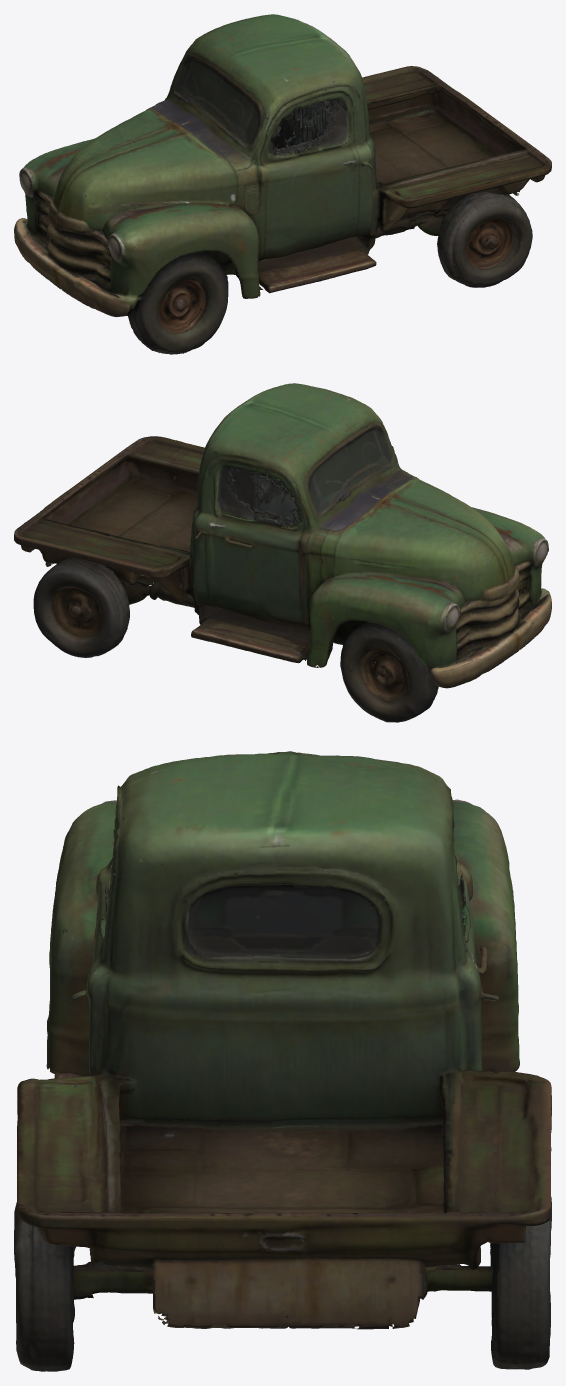
File: bills_truck.glb
The picture shows the model from 3 angles, top to bottom: view 1: azimuth 30°, elevation 25°; view 2: azimuth 150°, elevation 25°; view 3: azimuth 270°, elevation 25°; orthographic projection. The views are drawn at different scales.
Visible parts, largest first — view 1: Mesh_0; view 2: Mesh_0; view 3: Mesh_0.
Boxes of the visible parts, <box> form: Mesh_0: <box>14,14,551,354</box>; Mesh_0: <box>14,383,551,722</box>; Mesh_0: <box>14,751,551,1371</box>.
Size of the model in its own units: 7.72 by 4 by 4.29.
1 material, 1 textured.
